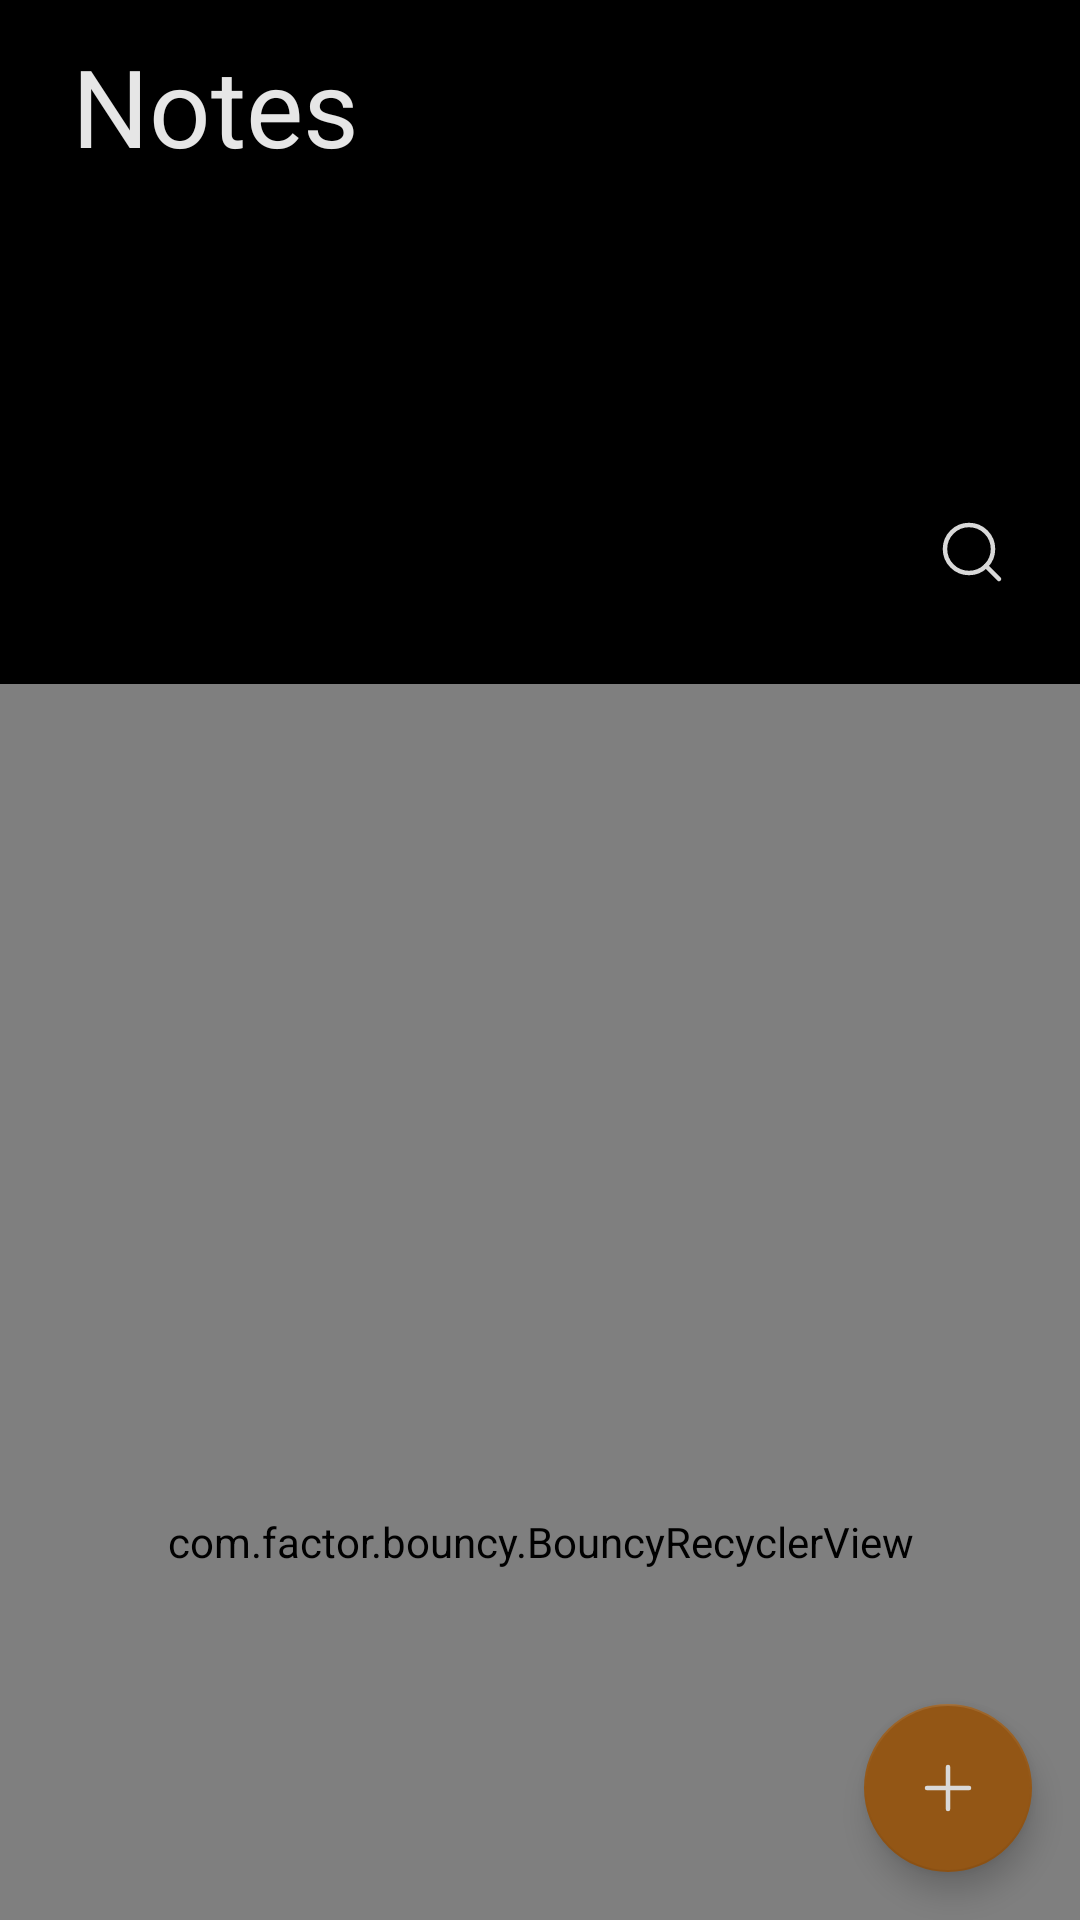

Named icons in this screenshot (1080 × 1920) and their centers, (x=x, y=y):
plus: (x=948, y=1788)
search: (x=972, y=552)
